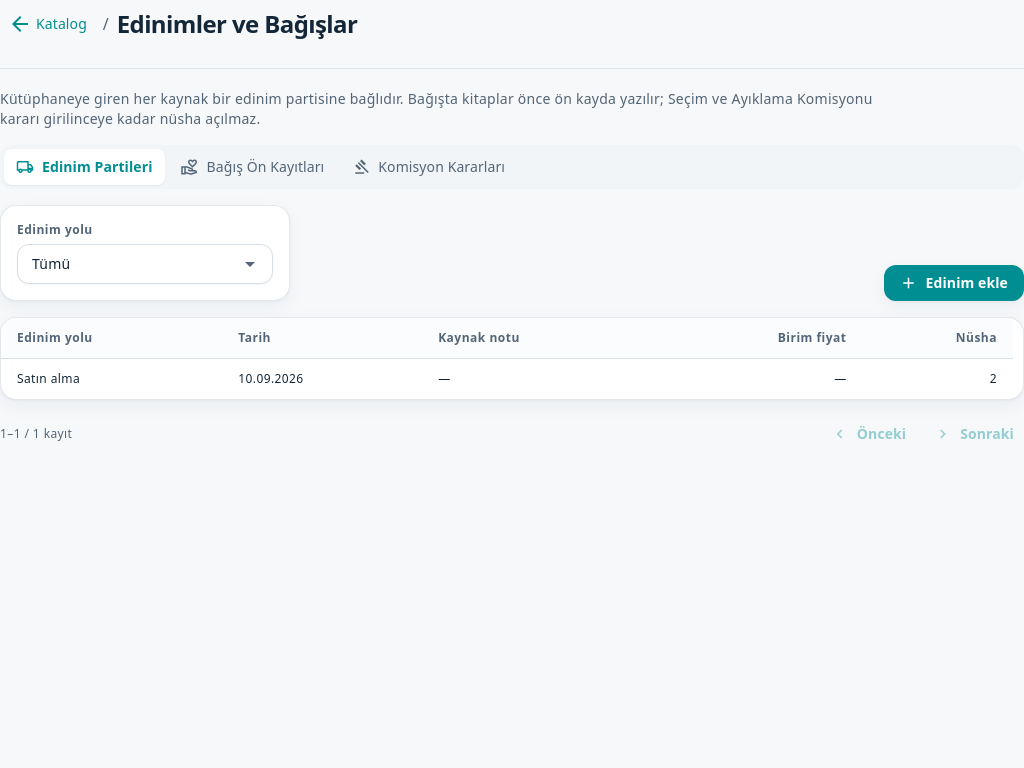
Test case: Edinim partileri › komisyon kararı seçicisi edinim yoluna göre değişir
Expected: the table is shown, [1, 318, 1013, 399]
Click the button "Edinim ekle": x=954, y=283 [884, 265, 1023, 301]
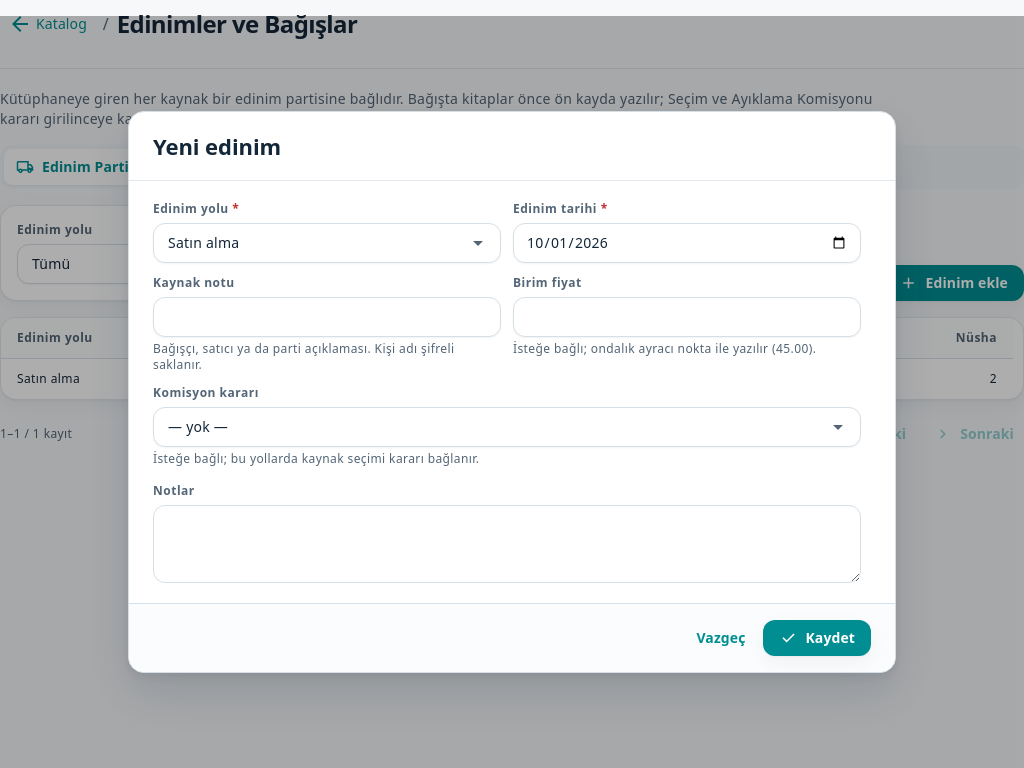
Expected: the option "Bağış değerlendirme" is not shown
Select "Bağış" in the dropdown labelled "Edinim yolu *": x=315, y=243 [164, 233, 466, 253]
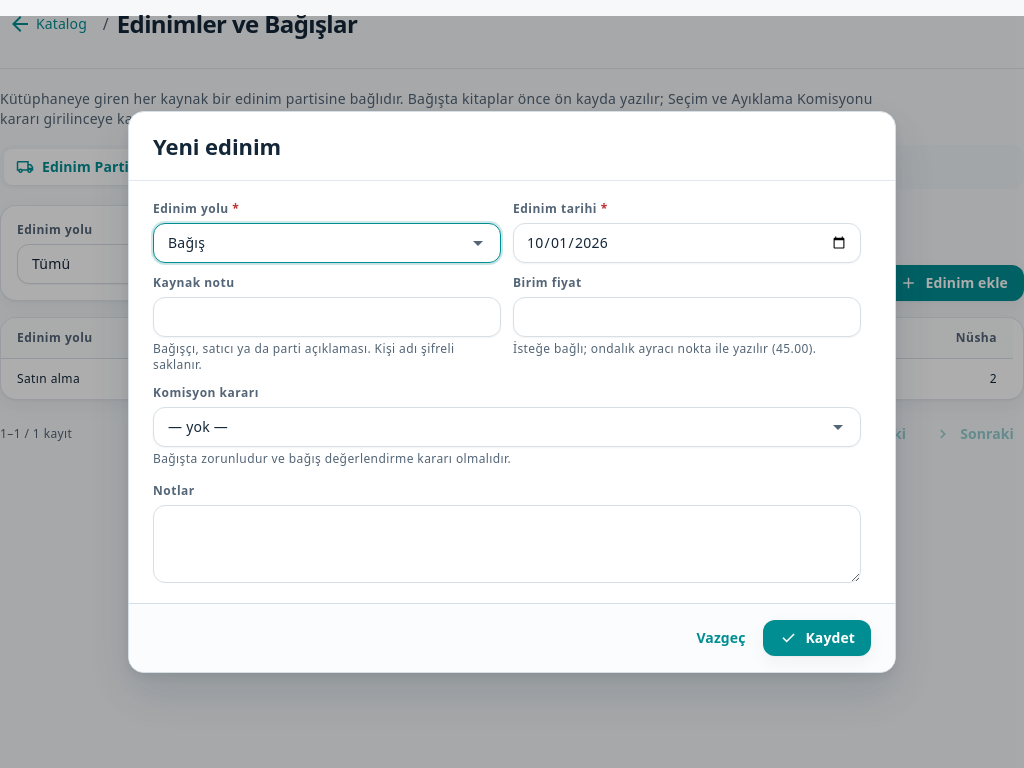
Expected: the text "Kaynak seçimi" is gone
